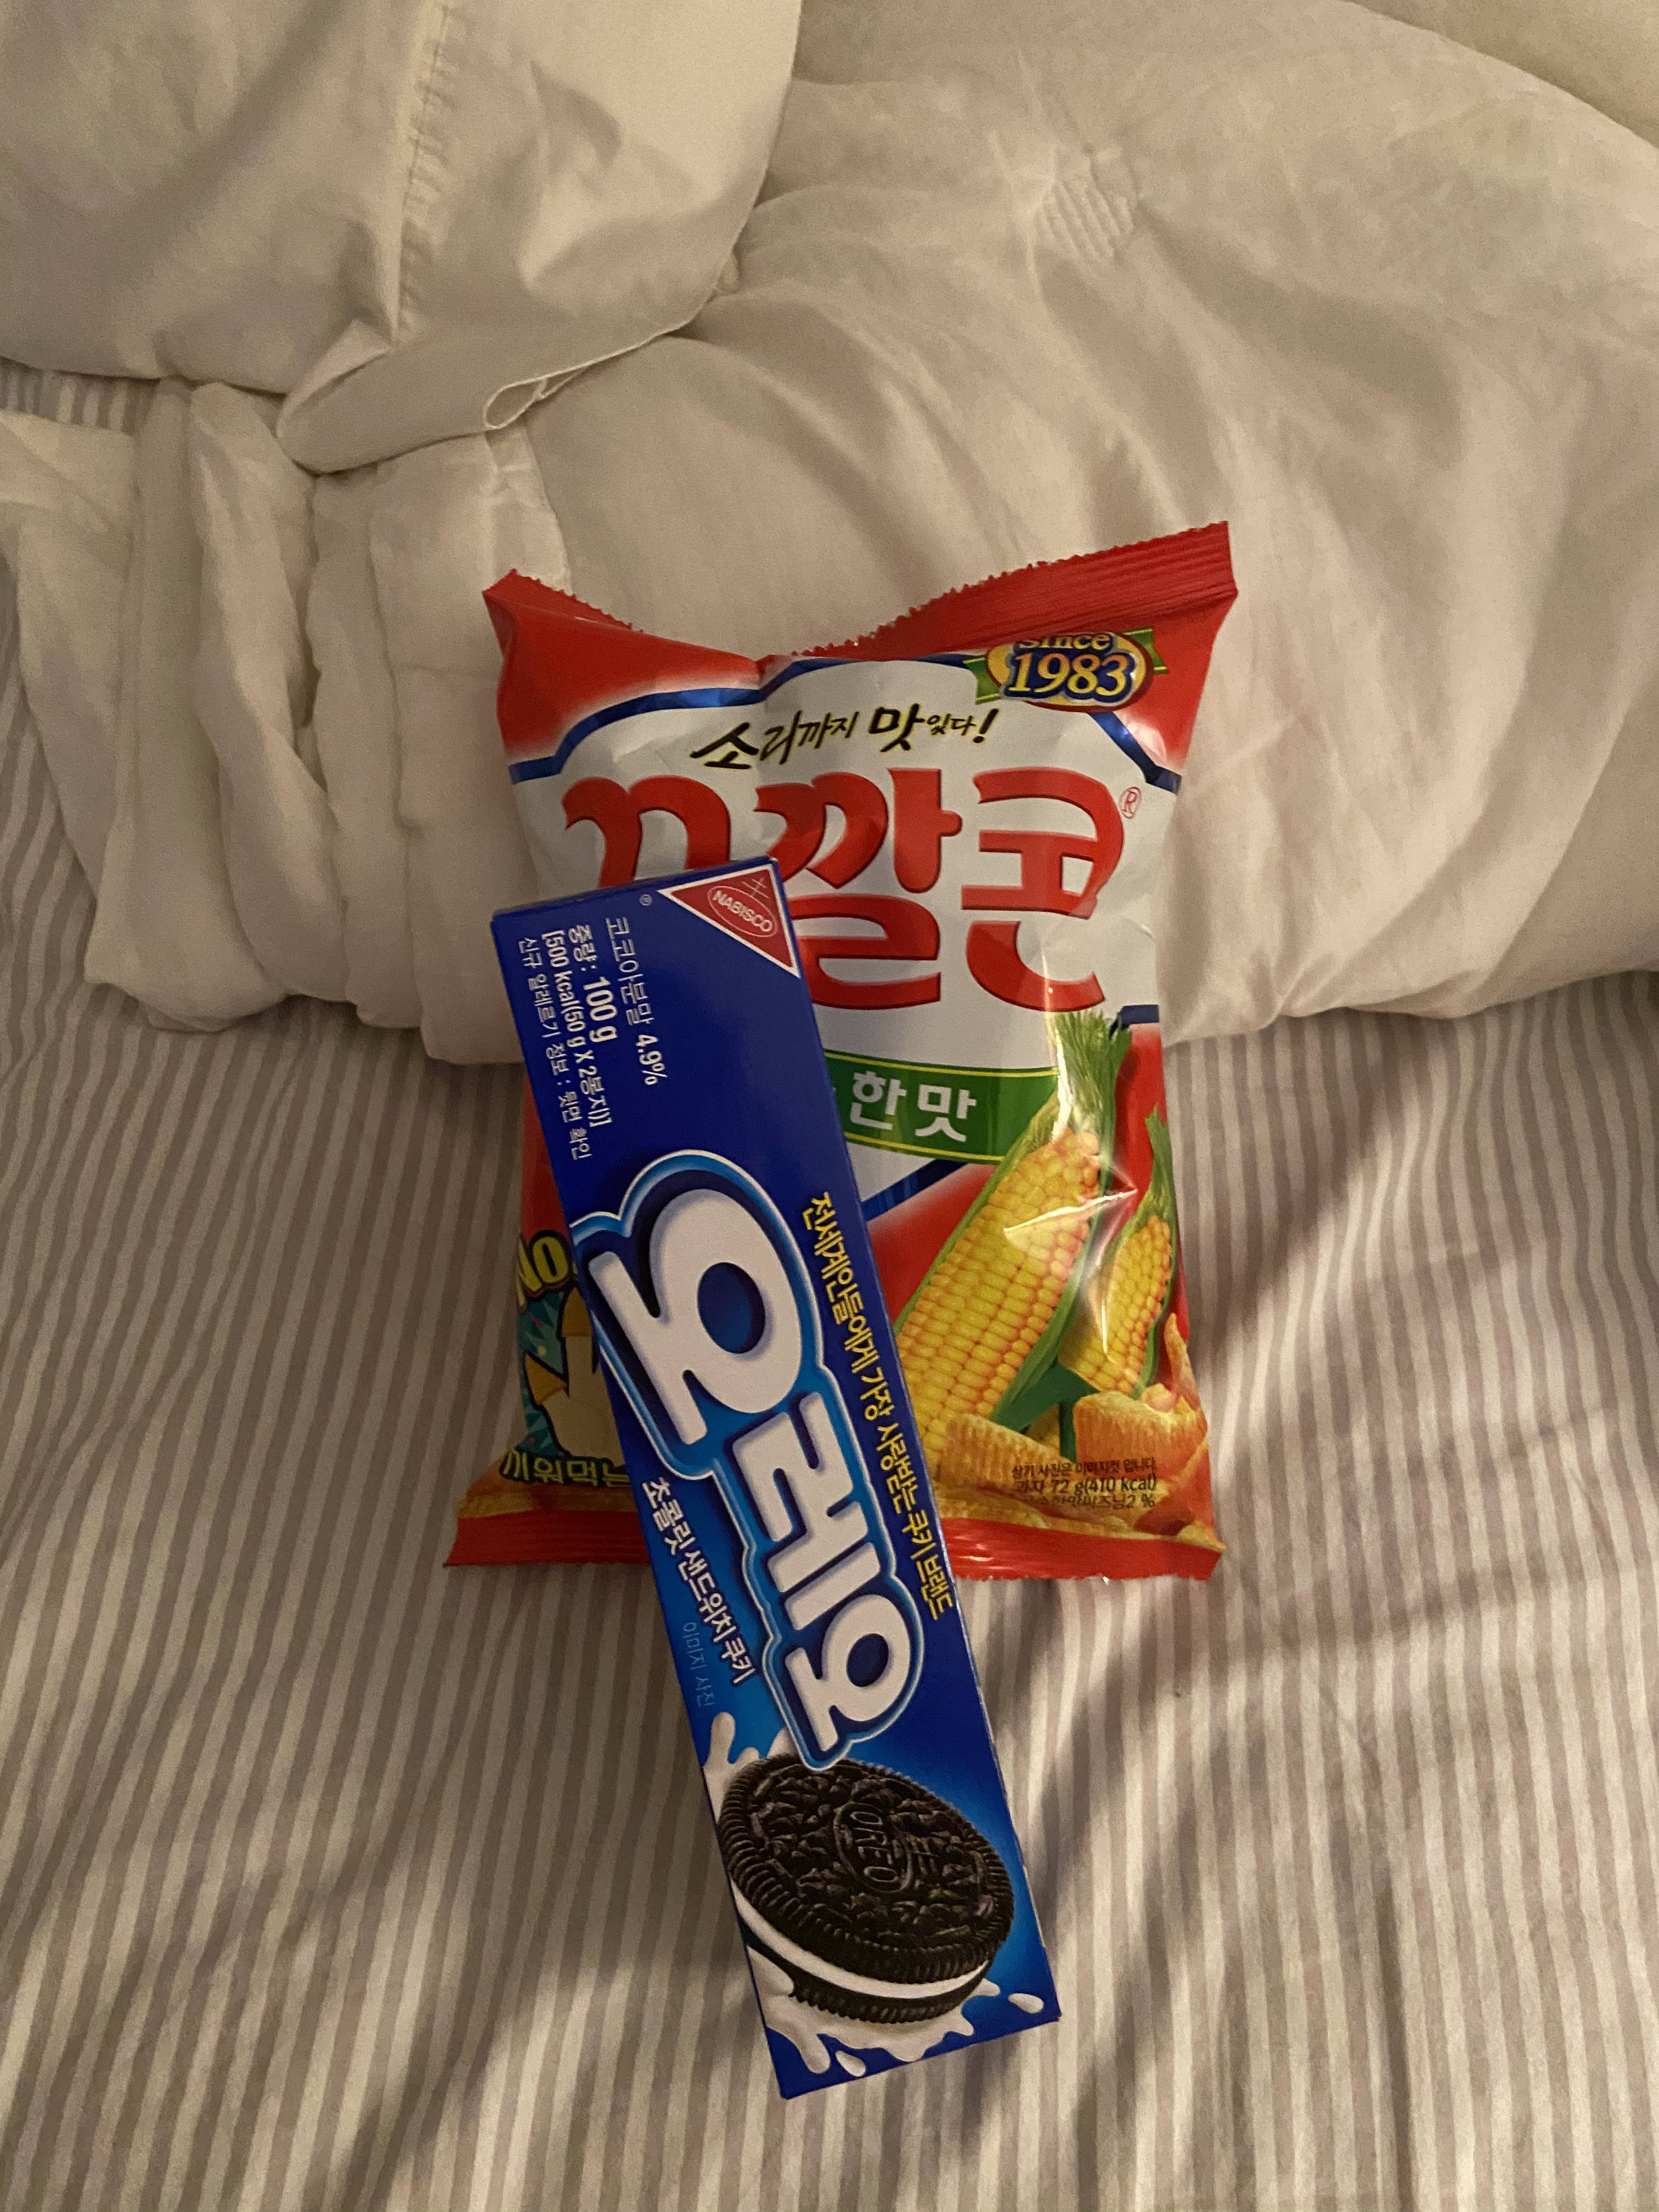ggoggalcon: (439, 512, 1256, 1594)
oreo: (479, 852, 1072, 2118)
